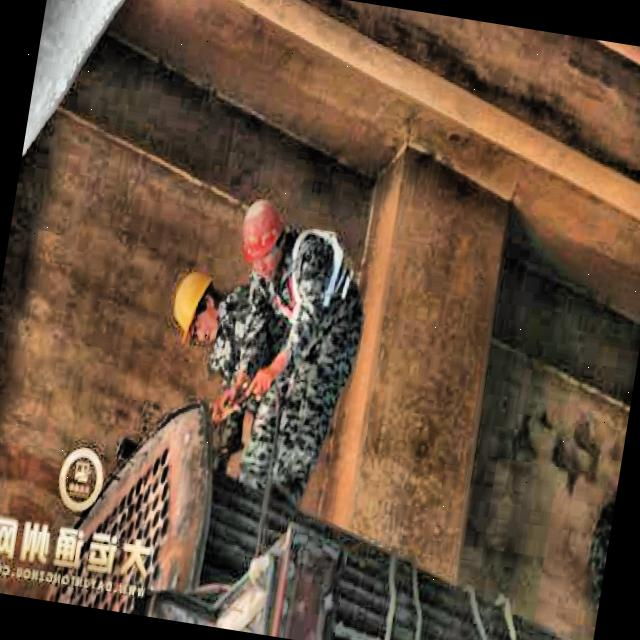helmet: (167, 268, 231, 359), (232, 193, 294, 282)
